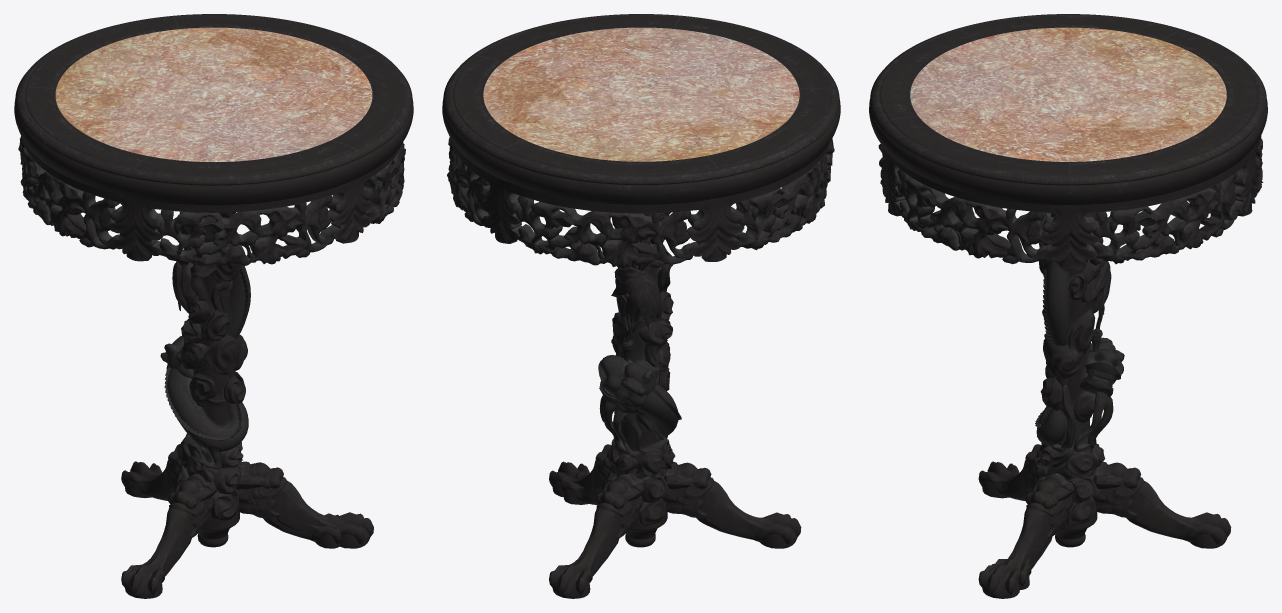
File: SM_Table01D.fbx
3 renders of one model, left to right at view 1: azimuth 30°, elevation 25°; view 2: azimuth 150°, elevation 25°; view 3: azimuth 270°, elevation 25°, orthographic.
Visible parts, largest first — view 1: SM_Table01D; view 2: SM_Table01D; view 3: SM_Table01D.
Part boxes in pixels (x1,y1,x2,y2): SM_Table01D: (14, 14, 413, 598); SM_Table01D: (442, 14, 840, 598); SM_Table01D: (869, 14, 1267, 598).
Bounding box in the file's own units: 63 × 63 × 78.
Materials: 1 (1 with a texture image).
